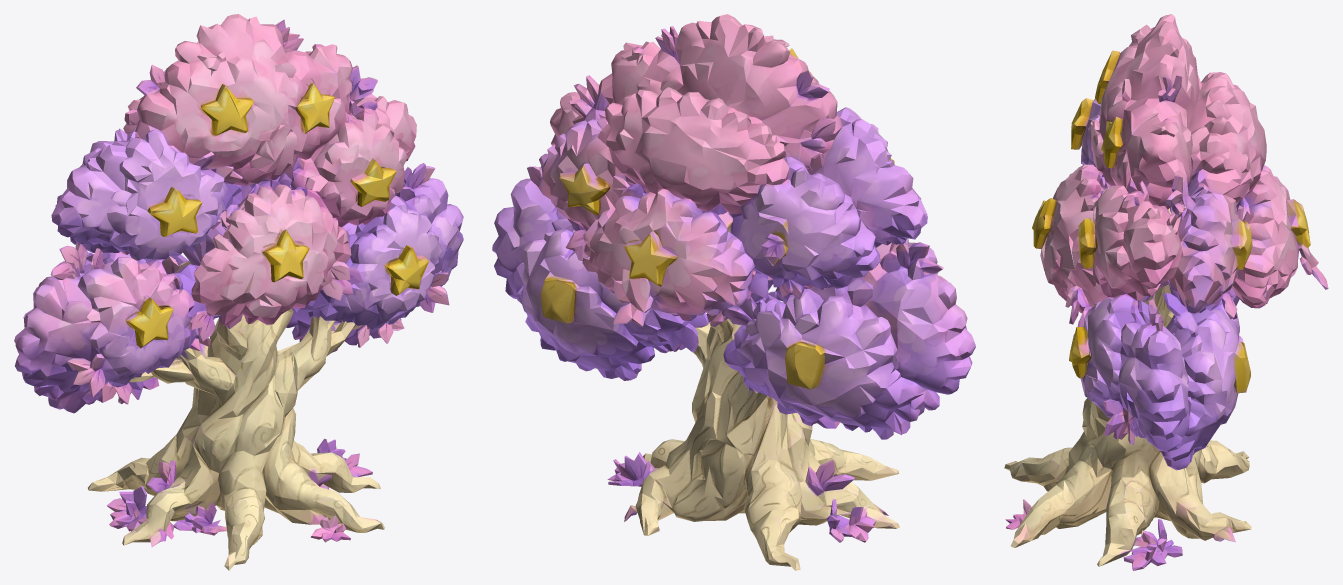
The model's file is place_tree_mobile.glb.
The picture shows the model from 3 angles, left to right: view 1: azimuth 30°, elevation 25°; view 2: azimuth 150°, elevation 25°; view 3: azimuth 270°, elevation 25°; orthographic projection. The views are drawn at different scales.
Bounding box in the file's own units: 1.88 × 1.9 × 1.15.
1 material, 1 textured.
